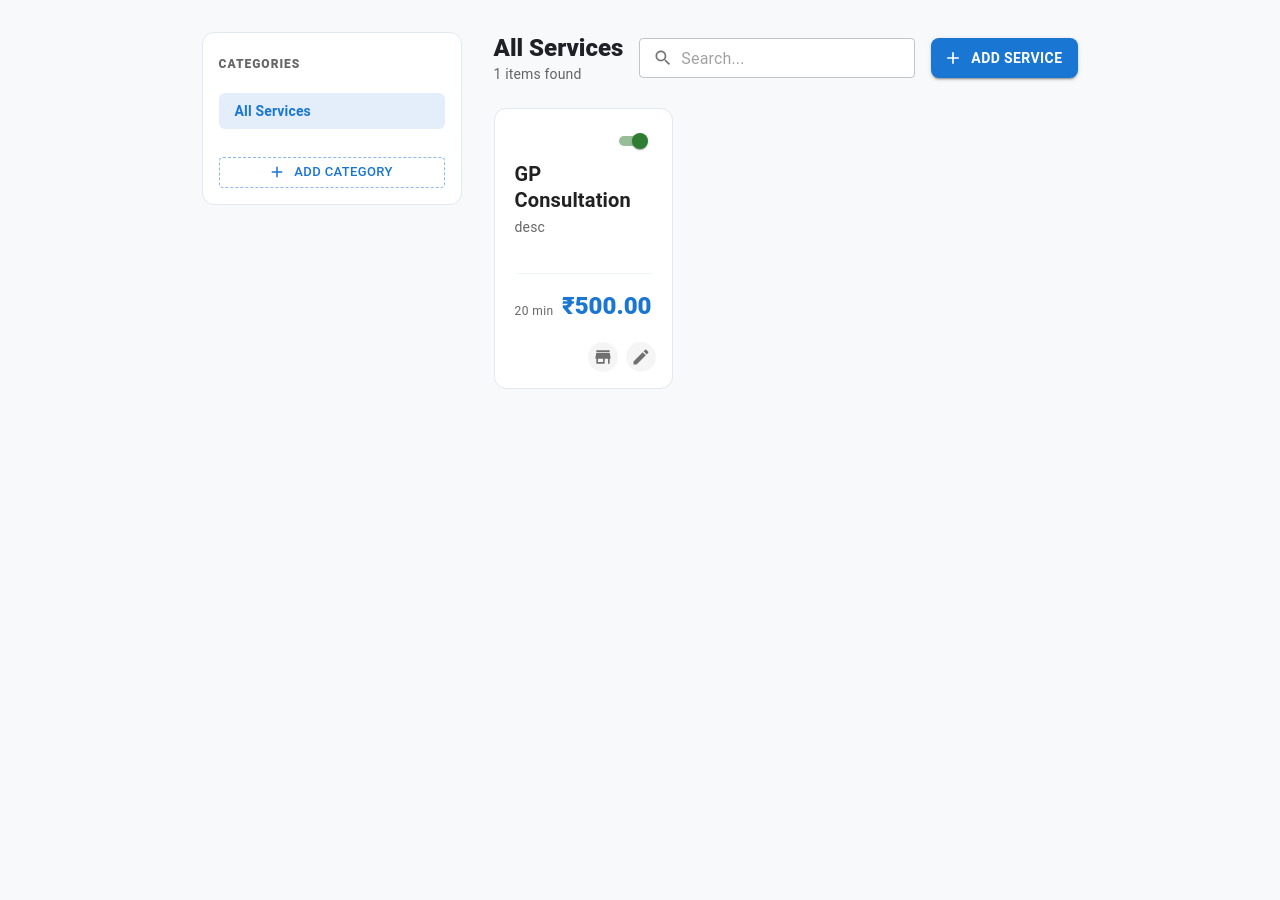
Test: ServiceCatalog branch pricing (REQ111) › seeds the dialog from an existing override
Expected: the heading "GP Consultation" is shown, [514,162,631,212]
What coordinates should you click on to do the following:
click the button named "Branch pricing for GP Consultation"
I would click on:
 (602, 357)
Its box is [588,342,618,372].
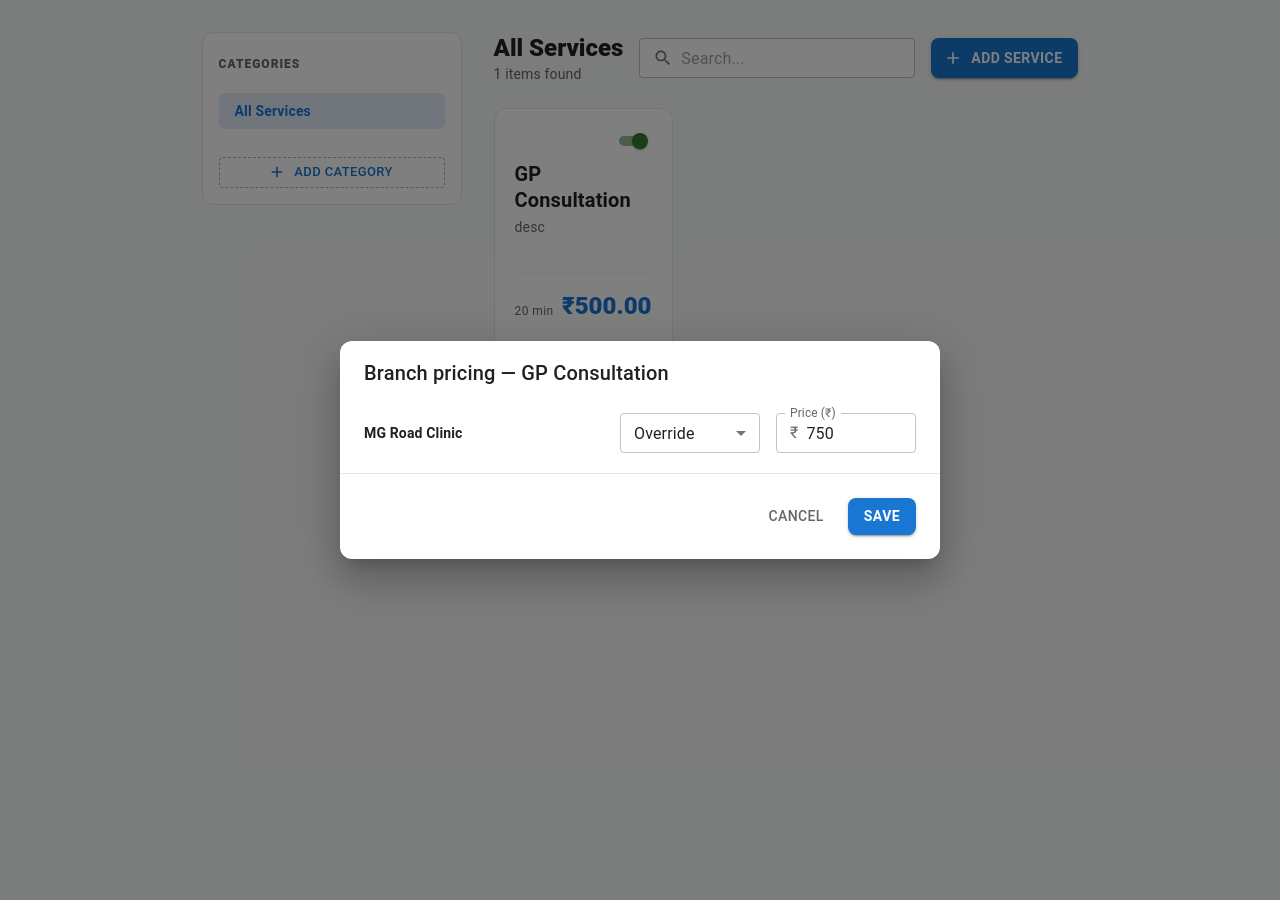
Expected: the heading "Branch pricing — GP Consultation" is shown, [364,361,669,385]
Expected: the number field showing "750" is shown, [806,413,916,453]
